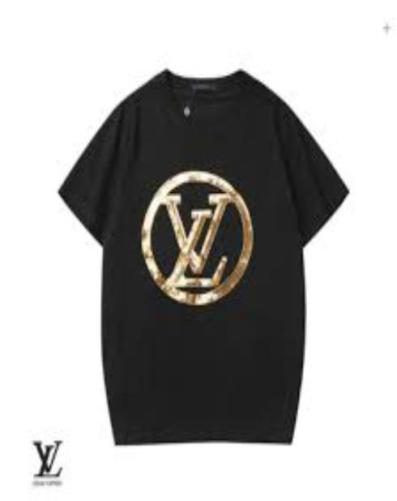LOUIS-VUITTON: (159, 189, 230, 294), (19, 433, 75, 480)
